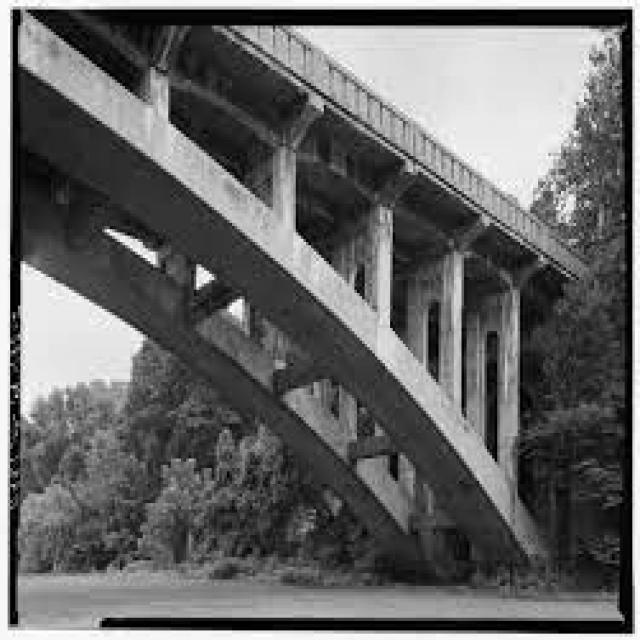Bridges: (21, 34, 590, 570)
